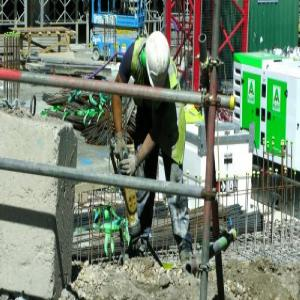white: (145, 31, 171, 94)
